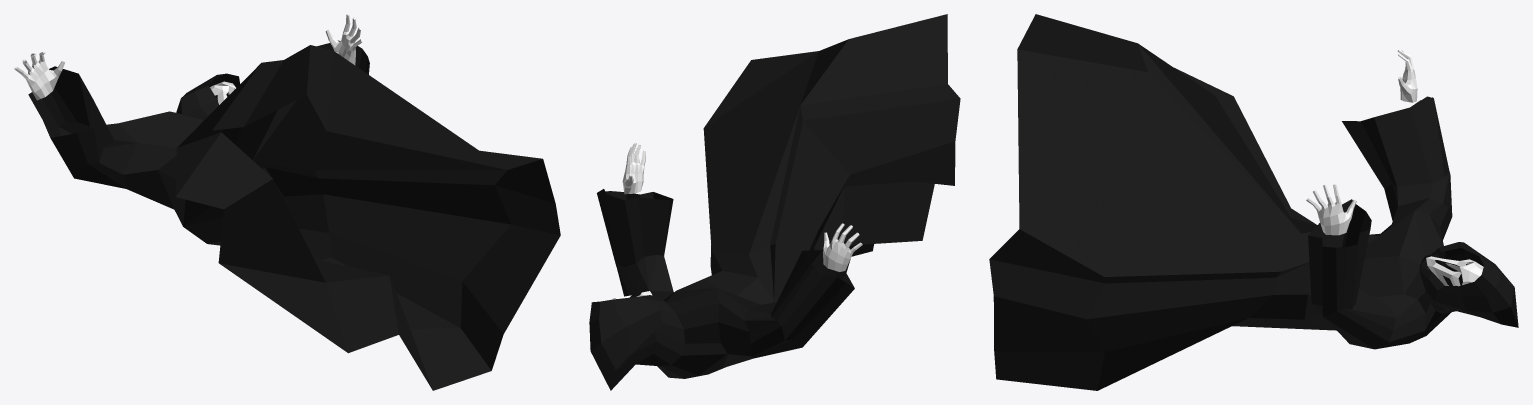
File: ReaperDead(70).obj
3 renders of one model, left to right at view 1: azimuth 30°, elevation 25°; view 2: azimuth 150°, elevation 25°; view 3: azimuth 270°, elevation 25°, orthographic. The views are drawn at different scales.
Parts seen in each view (by area): view 1: Plane003; view 2: Plane003; view 3: Plane003.
Part boxes in pixels (x1,y1,x2,y2): Plane003: (14,14,560,390); Plane003: (589,14,960,390); Plane003: (989,14,1518,390).
Size of the model in its own units: 142 by 123 by 202.
